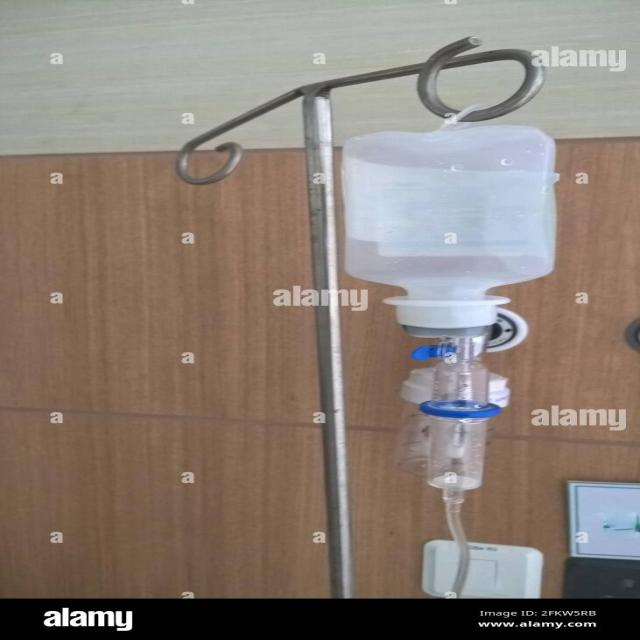B3: (340, 118, 563, 338)
